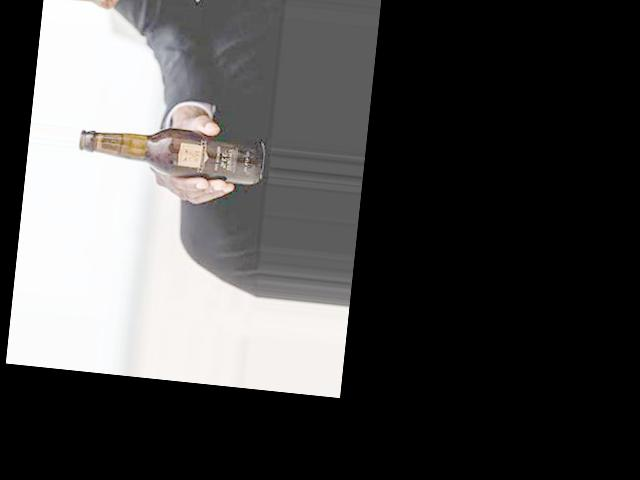beer: (77, 120, 266, 186)
